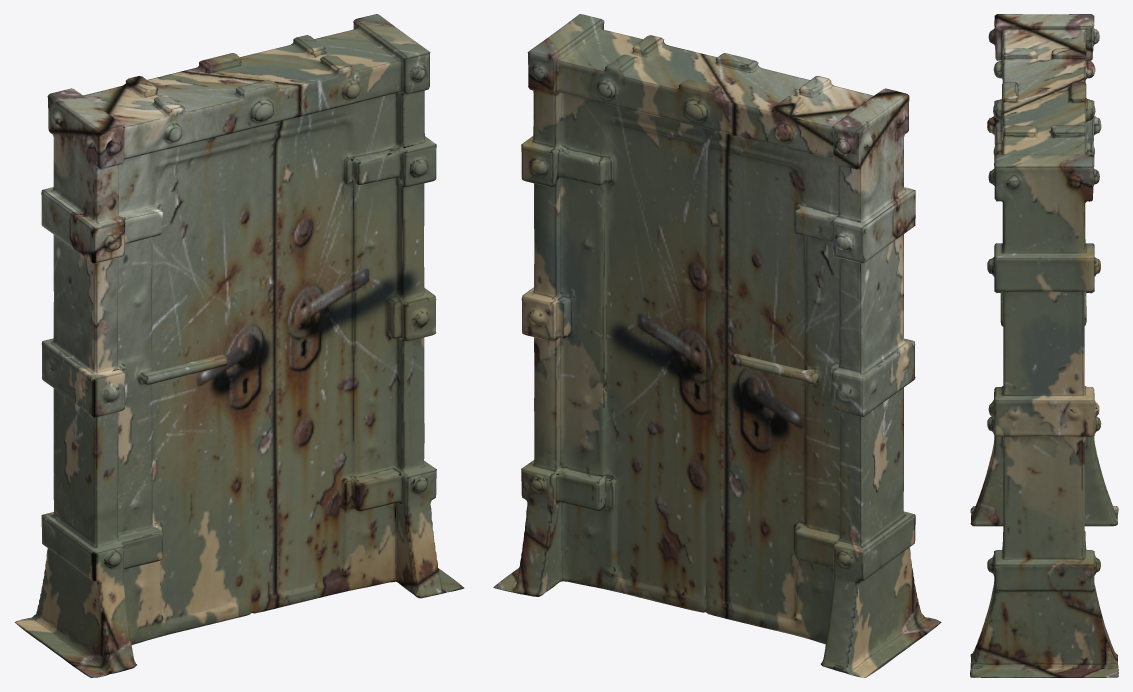
3 renders of one model, left to right at view 1: azimuth 30°, elevation 25°; view 2: azimuth 150°, elevation 25°; view 3: azimuth 270°, elevation 25°, orthographic. The views are drawn at different scales.
Visible parts, largest first — view 1: source; view 2: source; view 3: source.
Part boxes in pixels (x1,y1,x2,y2): source: (14,14,464,677); source: (493,14,941,677); source: (970,14,1118,677).
Bounding box in the file's own units: 1.4 × 1.91 × 0.5113.
1 material, 1 textured.
